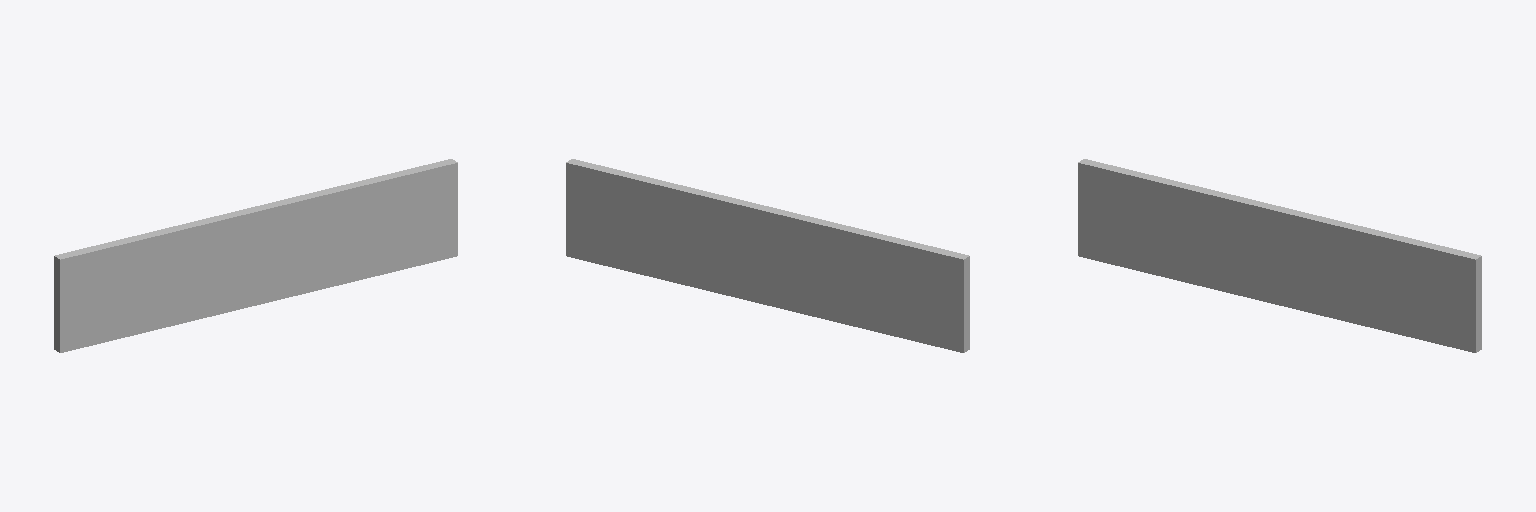
Rendered from MatthewsCar-0.obj.
3 views of the same model, side by side, from view 1: azimuth 30°, elevation 25°; view 2: azimuth 150°, elevation 25°; view 3: azimuth 330°, elevation 25° (orthographic).
Visible parts, largest first — view 1: object 1; view 2: object 1; view 3: object 1.
Part boxes in pixels (x1,y1,x2,y2): object 1: (54, 159, 457, 352); object 1: (566, 159, 969, 352); object 1: (1078, 159, 1481, 352).
Size of the model in its own units: 8 by 1.8 by 0.2.